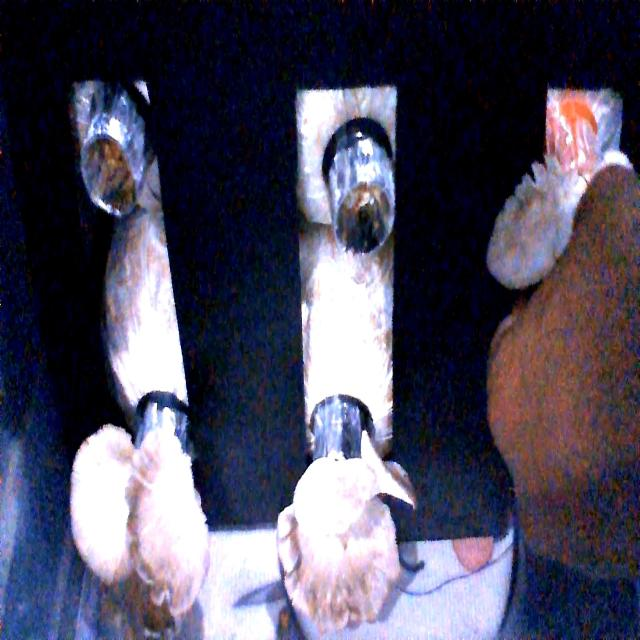big: (271, 451, 404, 634), (72, 429, 199, 596)
nfound: (74, 134, 139, 216), (326, 190, 401, 256)
